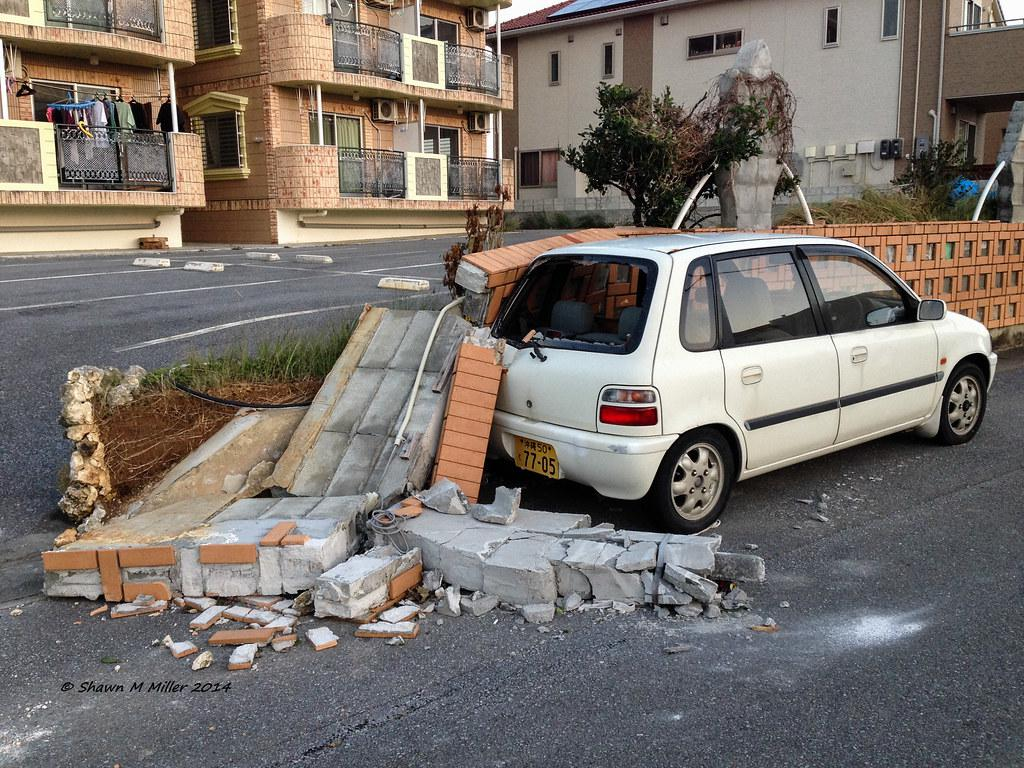Rear-windscreen-Damage: (503, 248, 650, 348)
